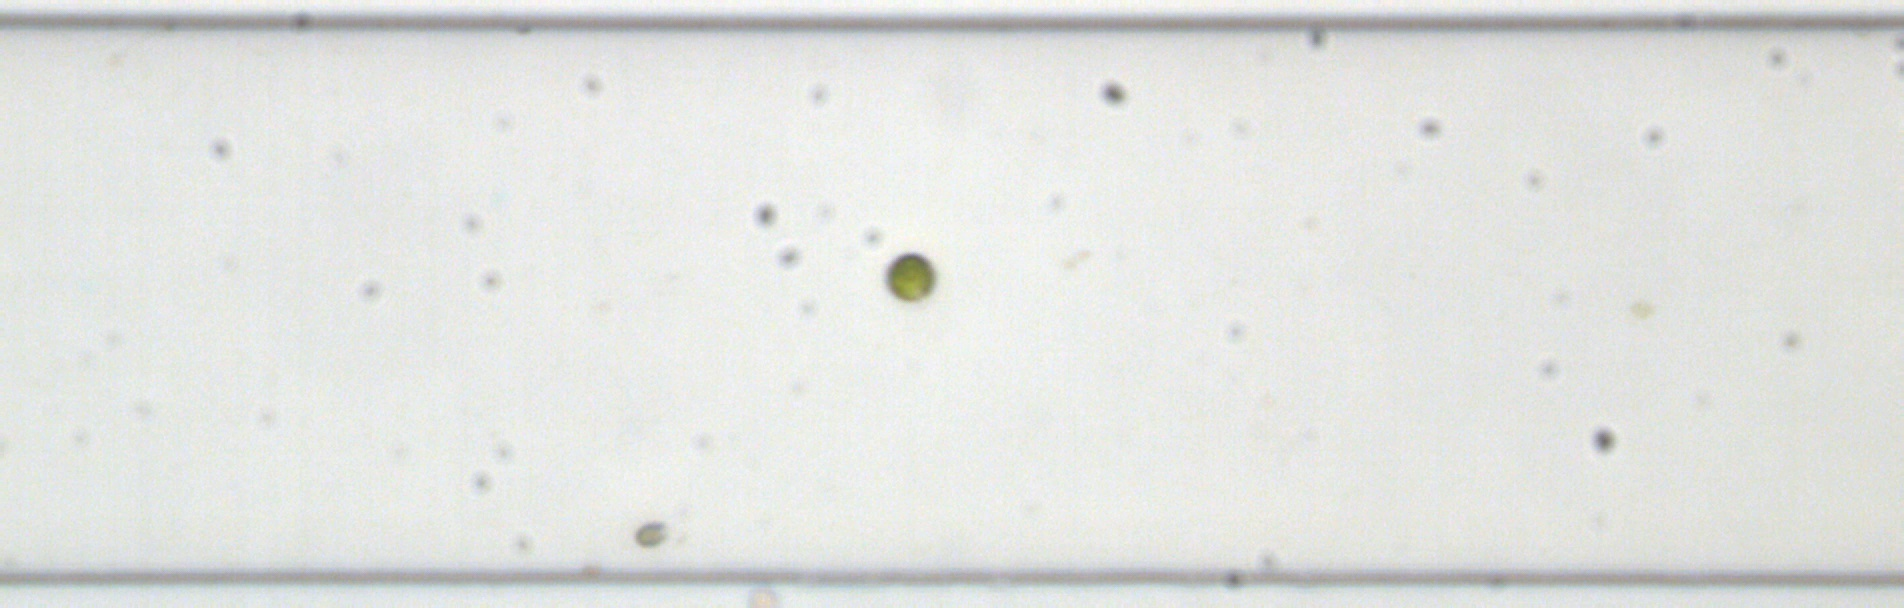Dunaliella salina: (633, 519, 671, 549)
Platymonas: (882, 250, 939, 303)
